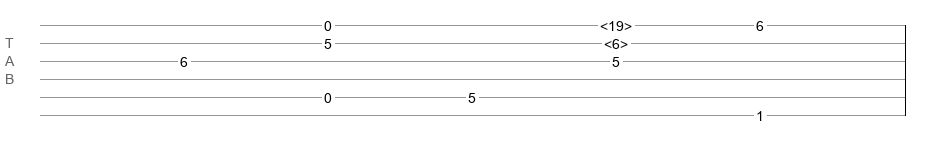0: (324, 90, 332, 100), (324, 18, 332, 28)
1: (756, 108, 764, 118)
5: (324, 36, 332, 46), (468, 90, 476, 100), (612, 54, 620, 64)
6: (180, 54, 188, 64), (756, 18, 764, 28)
harmonic: (600, 18, 632, 28), (604, 36, 628, 46)
